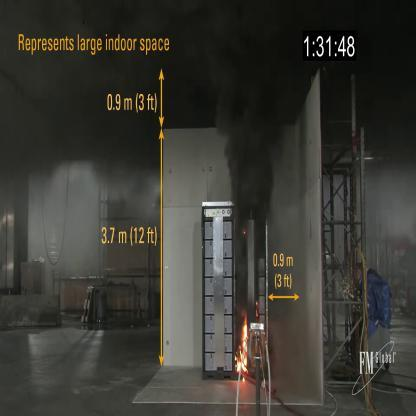fire: (234, 318, 250, 378)
smoke: (212, 36, 286, 194)
